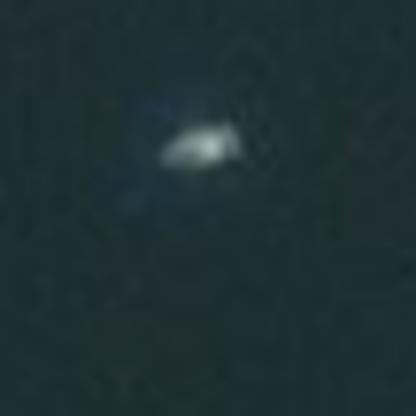ship: (145, 108, 254, 181)
